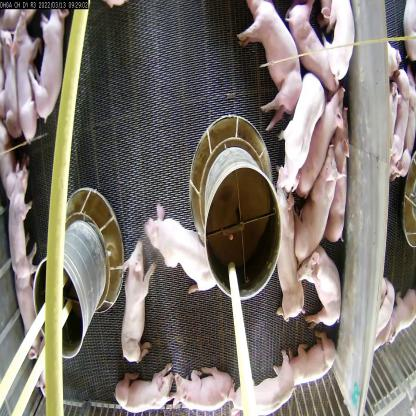Pig: (240, 0, 299, 119), (144, 198, 218, 292), (269, 171, 307, 328), (294, 90, 342, 204), (301, 244, 352, 351), (229, 357, 312, 415), (123, 244, 157, 370), (38, 4, 70, 134), (9, 18, 39, 155), (298, 146, 332, 263), (2, 163, 37, 276), (278, 76, 313, 187), (11, 281, 45, 386), (280, 327, 337, 386), (111, 370, 183, 415), (171, 363, 227, 415)
